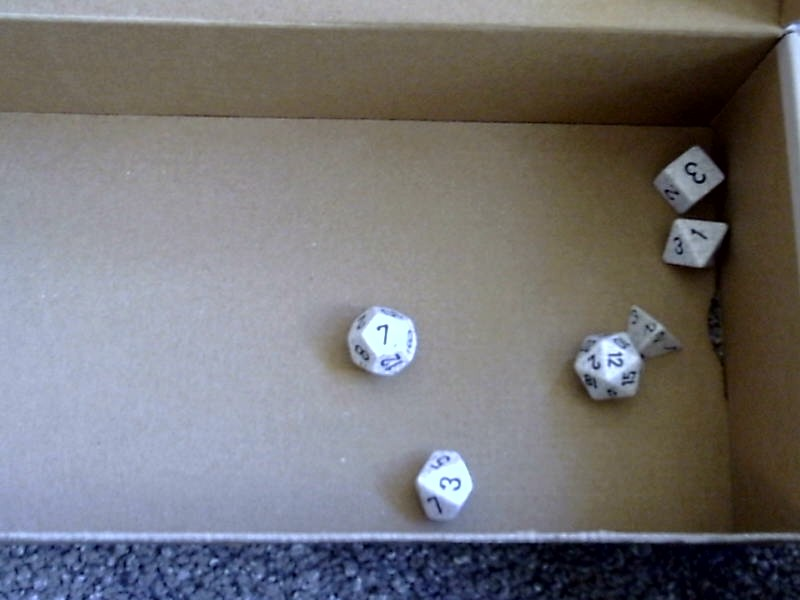d10 3: (409, 439, 476, 525)
d12 7: (337, 298, 423, 381)
d20 12: (566, 330, 641, 415)
d4 2: (627, 299, 686, 363)
d6 3: (649, 139, 728, 215)
d8 1: (657, 217, 732, 273)
